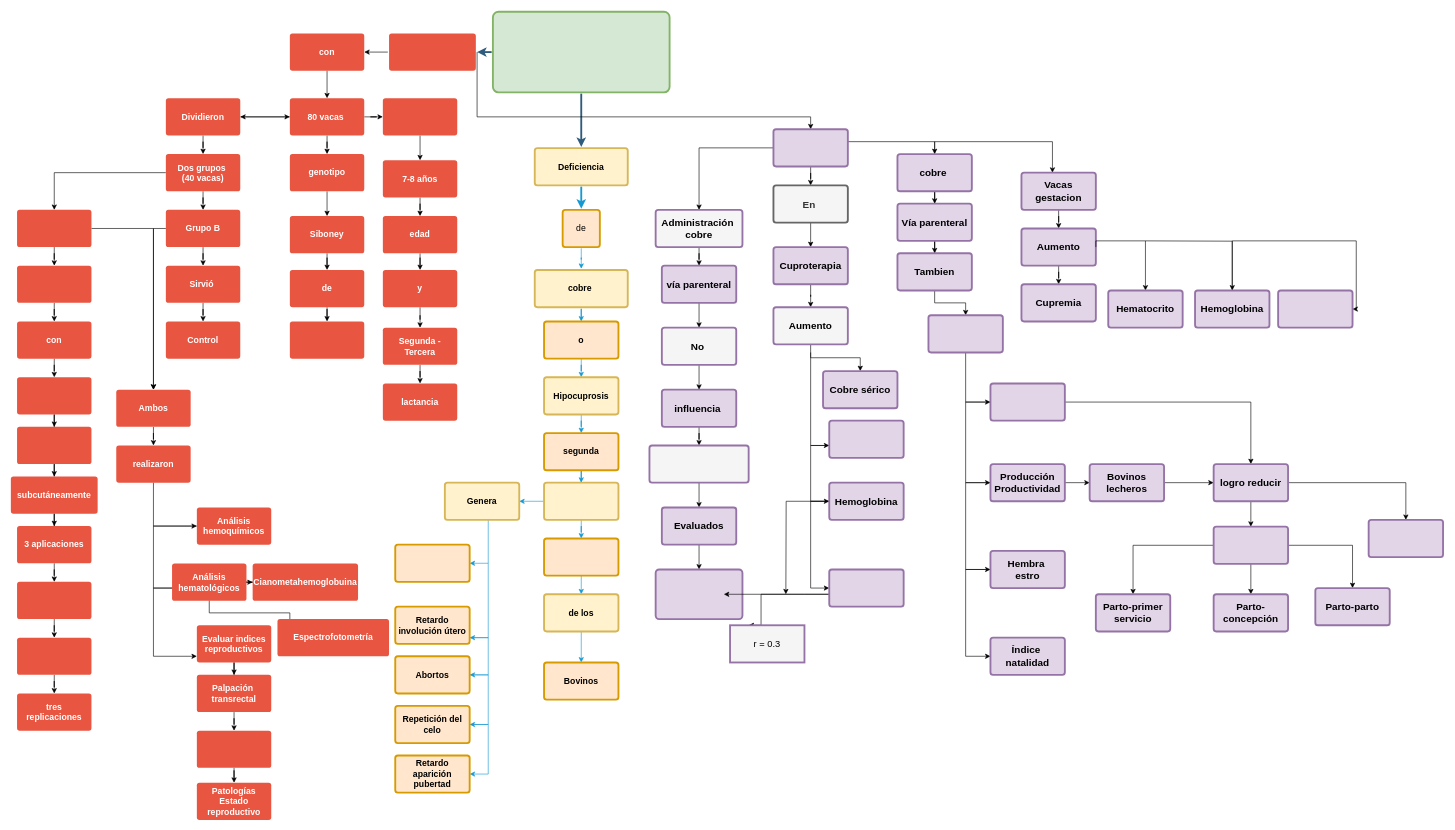
The diagram is 1455 pixels wide and 830 high, and some of its shapes have lost their labels. The box of each missing label's shape, as (x1, y1, x2, y2) in pixels:
2 ml CuSO4 (2.5%): (17, 377, 91, 414)
8 meses: (17, 637, 91, 675)
cada: (17, 582, 91, 619)
carencia mineral: (543, 481, 619, 520)
COBRE EN VACAS GESTANTES: (492, 11, 670, 93)
Correlación positiva: (828, 568, 904, 607)
Cuba: (290, 321, 364, 358)
Desempeño reproductivo: (989, 382, 1065, 421)
Entre: (383, 98, 457, 135)
Grupo A: (17, 210, 91, 247)
Hierro: (828, 419, 904, 458)
Intervalos: (1212, 525, 1289, 565)
Investigación: (389, 33, 476, 70)
Inyectado: (17, 427, 91, 464)
Macroelementos: (648, 444, 749, 483)
mas significativa: (543, 537, 619, 576)
Mejoría: (927, 314, 1003, 353)
para: (197, 730, 271, 768)
Proteínas totales: (1277, 289, 1353, 328)
Resultados: (772, 128, 848, 167)
Trastornos reproductivos: (394, 543, 470, 582)
tratado: (17, 265, 91, 303)
Zinc Hematocrito Leucocitos: (654, 568, 743, 620)
Índice inseminación: (1367, 519, 1444, 558)
